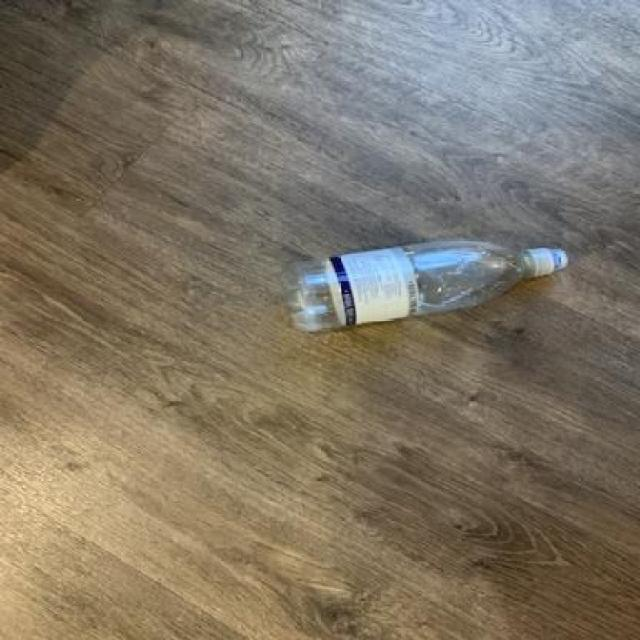trash: (284, 238, 568, 336)
